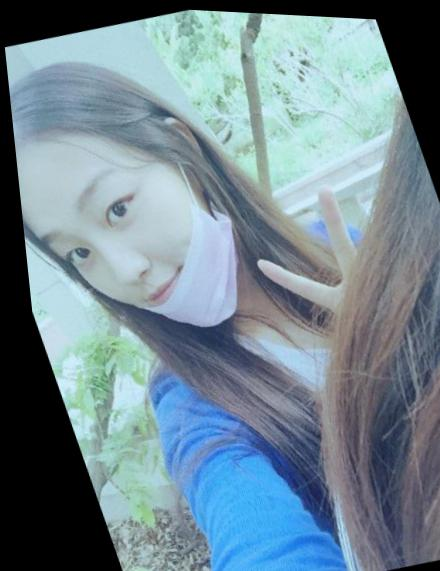WRONG: (17, 135, 243, 353)
